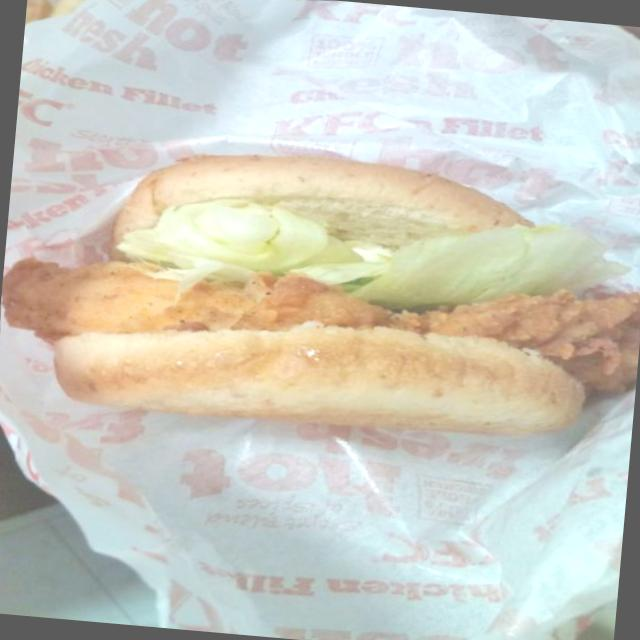Hamburger: (0, 93, 640, 464)
